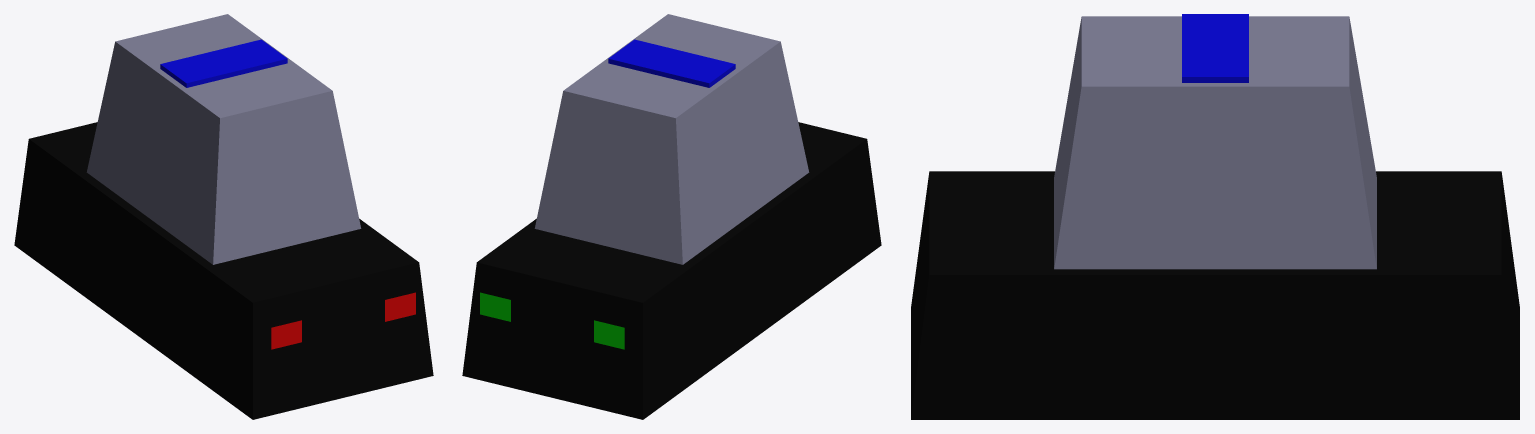
The model's file is veh_auto_lod1.glb.
The picture shows the model from 3 angles, left to right: view 1: azimuth 30°, elevation 25°; view 2: azimuth 150°, elevation 25°; view 3: azimuth 270°, elevation 25°; orthographic projection. The views are drawn at different scales.
Visible parts, largest first — view 1: veh_auto_lod1; view 2: veh_auto_lod1; view 3: veh_auto_lod1.
Boxes of the visible parts, bbox=[...] form: veh_auto_lod1: bbox=[14, 14, 433, 419]; veh_auto_lod1: bbox=[462, 14, 881, 419]; veh_auto_lod1: bbox=[911, 14, 1519, 419].
Size of the model in its own units: 1.4 by 1.85 by 3.21.
